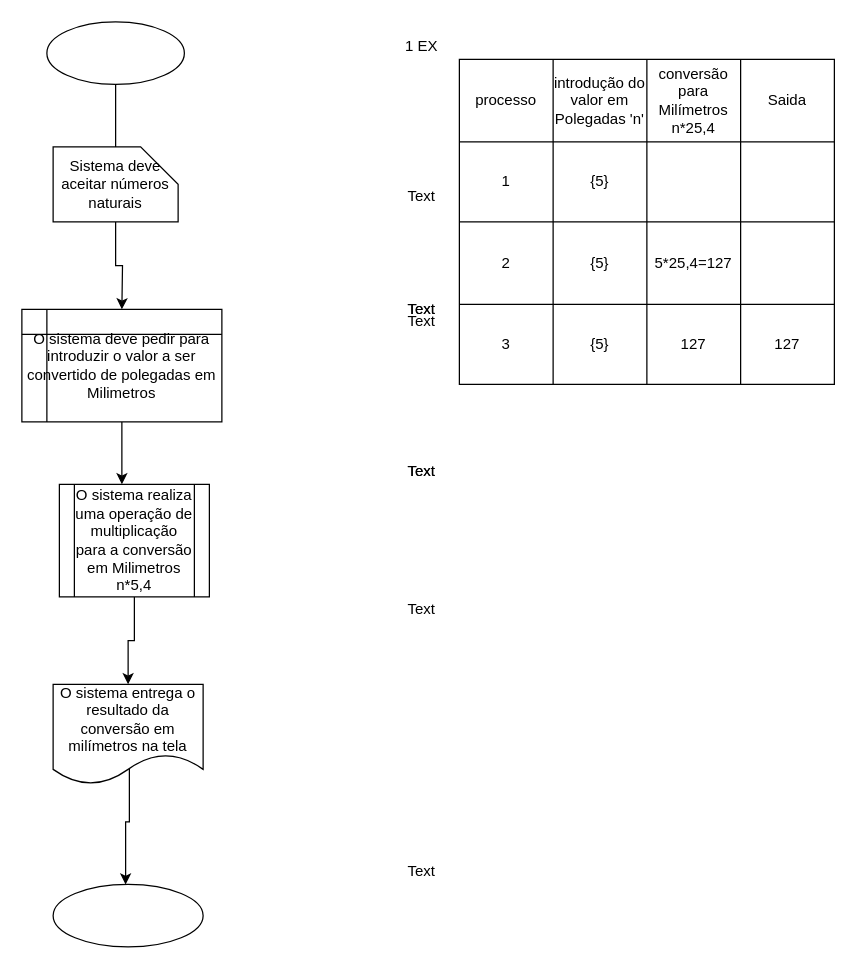
Some shapes in this 856 by 969 pixel diagram are drawn without their labels. The box of each missing label's shape, as (x1, y1, x2, y2) in pixels:
FIM: (52, 883, 203, 947)
Inicío: (46, 21, 184, 84)
